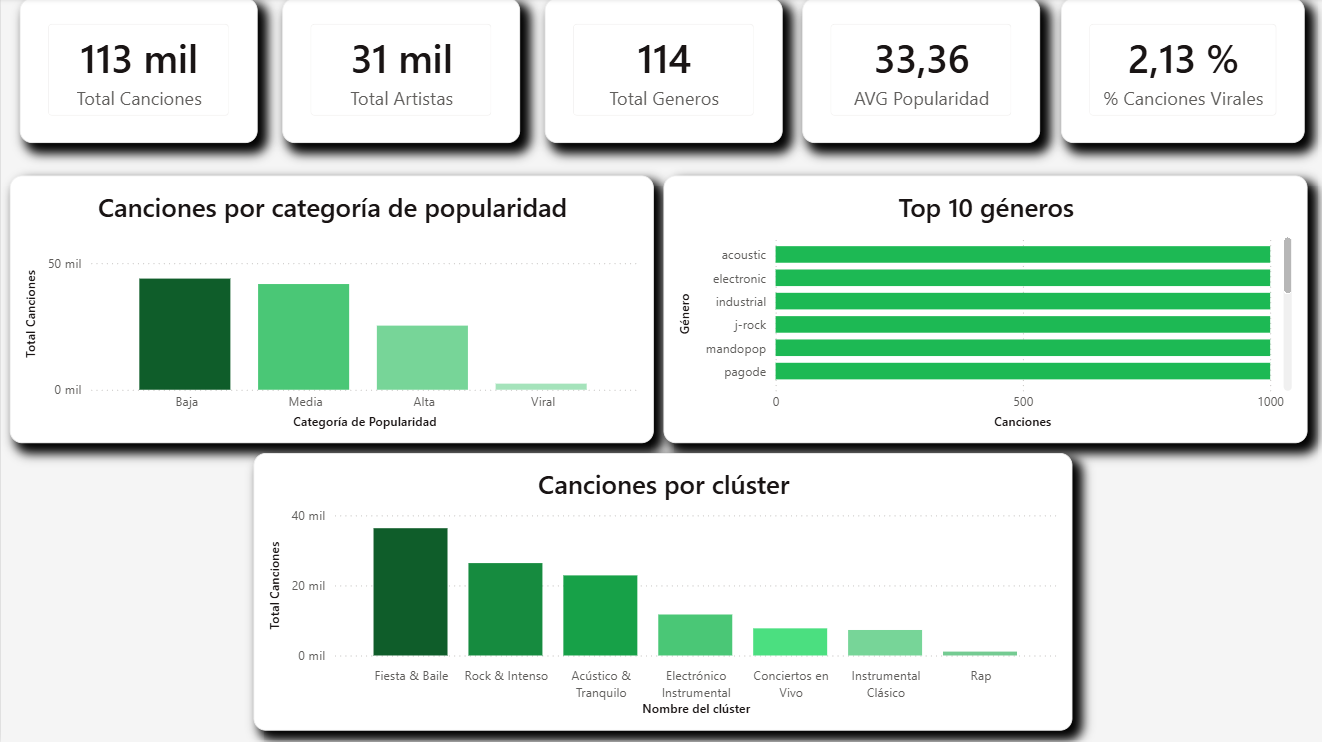

The dashboard page shown, as its layout file describes it:
{"tool":"powerbi","page":{"name":"Resumen General","canvas":[1280,720],"ordinal":0},"visuals":[{"type":"cardVisual","fields":{"Data":["_Medidas.TotalCanciones"]},"box":[18.1,0,229.2,139.9],"z":0},{"type":"cardVisual","fields":{"Data":["_Medidas.TotalArtistas"]},"box":[271.4,0,229.2,139.9],"z":1000},{"type":"cardVisual","fields":{"Data":["_Medidas.TotalGeneros"]},"box":[524.8,0,229.2,139.9],"z":2000},{"type":"cardVisual","fields":{"Data":["_Medidas.AvgPopularidad"]},"box":[773.3,0,229.2,139.9],"z":3000},{"type":"cardVisual","fields":{"Data":["_Medidas.%CancionesVirales"]},"box":[1023.1,0,235.3,139.9],"z":4000},{"type":"clusteredColumnChart","title":"Canciones por categoría de popularidad","fields":{"Category":["tracks.popularity_category"],"Y":["_Medidas.TotalCanciones"]},"box":[8.4,171.3,621.3,258.2],"z":5000},{"type":"clusteredBarChart","title":"Top 10 géneros","fields":{"Category":["tracks.track_genre"],"Y":["_Medidas.TotalCanciones"]},"box":[639.4,171.3,621.3,258.2],"z":6000},{"type":"clusteredColumnChart","title":"Canciones por clúster","fields":{"Category":["tracks.cluster_nombre"],"Y":["_Medidas.TotalCanciones"]},"box":[243.7,439.1,790.2,267.8],"z":7000}]}

Visuals, with their boxes in screenshot pixels (x1, y1, x2, y2), scaled from the page's 1280x720 canvas onto the 1322x742 screenshot:
cardVisual - _Medidas.TotalCanciones: x1=19, y1=0, x2=255, y2=144
cardVisual - _Medidas.TotalArtistas: x1=280, y1=0, x2=517, y2=144
cardVisual - _Medidas.TotalGeneros: x1=542, y1=0, x2=779, y2=144
cardVisual - _Medidas.AvgPopularidad: x1=799, y1=0, x2=1035, y2=144
cardVisual - _Medidas.%CancionesVirales: x1=1057, y1=0, x2=1300, y2=144
"Canciones por categoría de popularidad" clusteredColumnChart: x1=9, y1=177, x2=650, y2=443
"Top 10 géneros" clusteredBarChart: x1=660, y1=177, x2=1302, y2=443
"Canciones por clúster" clusteredColumnChart: x1=252, y1=453, x2=1068, y2=728
